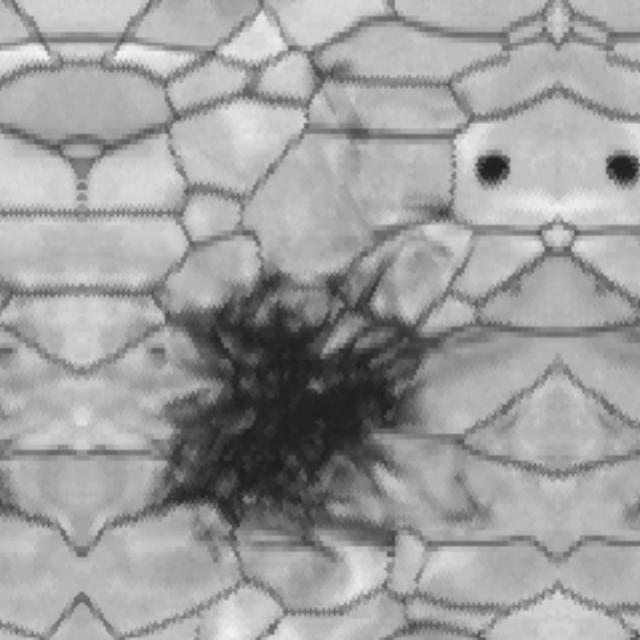good_void: (153, 248, 465, 576), (433, 454, 512, 537), (406, 187, 475, 242), (300, 50, 357, 110), (603, 464, 640, 536), (467, 148, 520, 196), (332, 111, 380, 160), (596, 148, 640, 196), (145, 340, 173, 365), (0, 340, 17, 363)
